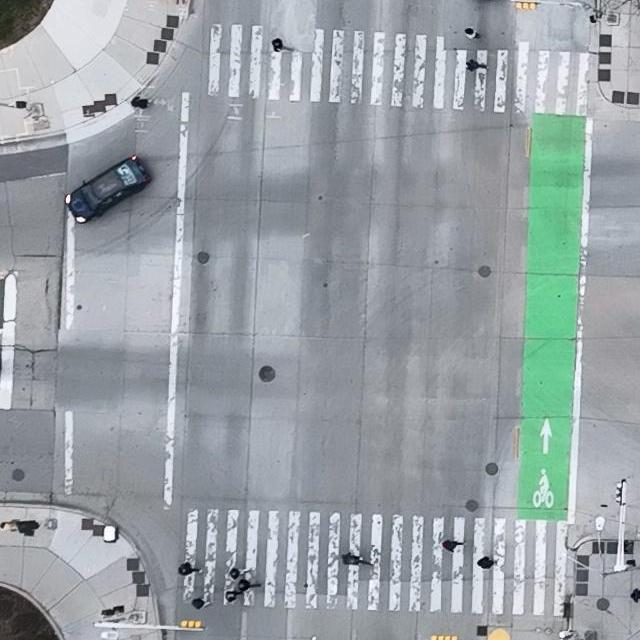car: (63, 154, 150, 223)
